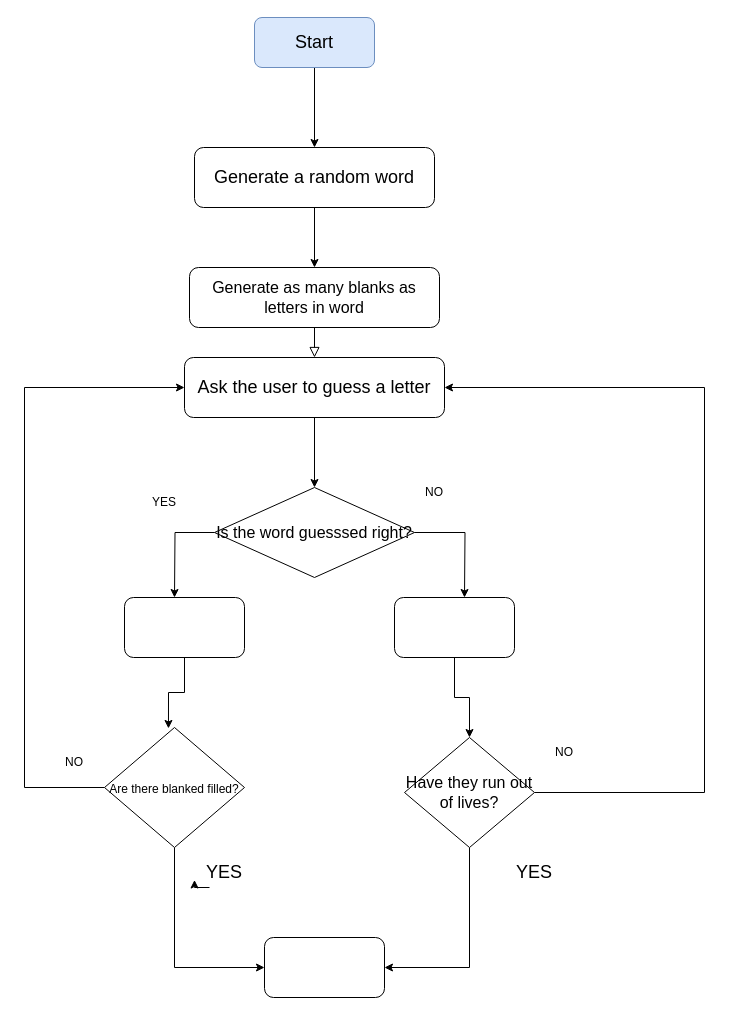
Image size: 730x1015. Some labels were removed from this diagram. Here are the shapes that lost their labels. From the top down, the centre of each, then its label:
At point 184,627: "Replace the blank with the letter".
At point 454,627: "Lose a life".
At point 324,967: "Game Over".
